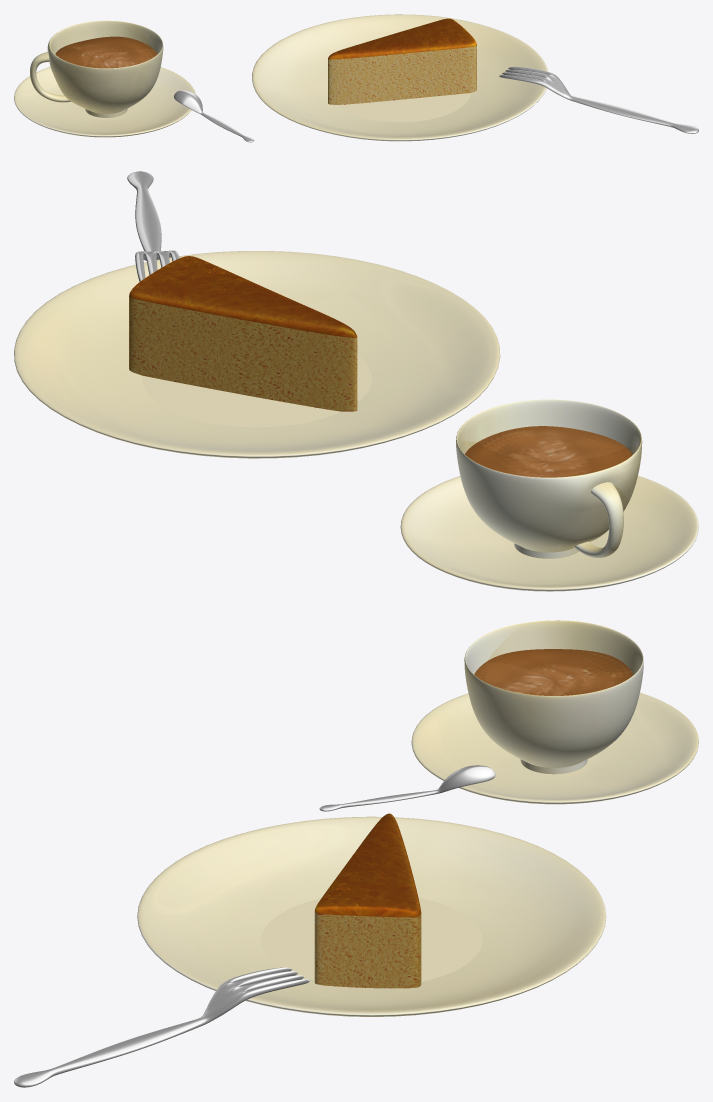
File: cake__coffee.glb
The picture shows the model from 3 angles, top to bottom: view 1: azimuth 30°, elevation 25°; view 2: azimuth 150°, elevation 25°; view 3: azimuth 270°, elevation 25°; orthographic projection. The views are drawn at different scales.
Visible parts, largest first — view 1: Object_9, Object_7, Object_11, Object_10, Object_6, Object_4, Object_8, Object_3; view 2: Object_9, Object_7, Object_11, Object_10, Object_6, Object_4, Object_8; view 3: Object_9, Object_11, Object_10, Object_7, Object_6, Object_4, Object_3.
Boxes of the visible parts, bbox=[...] form: Object_9: bbox=[252, 14, 548, 141]; Object_7: bbox=[328, 18, 476, 104]; Object_11: bbox=[47, 20, 163, 113]; Object_10: bbox=[14, 67, 195, 137]; Object_6: bbox=[337, 93, 470, 122]; Object_4: bbox=[499, 66, 698, 133]; Object_8: bbox=[30, 51, 127, 117]; Object_3: bbox=[174, 90, 254, 142]; Object_9: bbox=[14, 251, 500, 458]; Object_7: bbox=[129, 256, 357, 411]; Object_11: bbox=[456, 399, 642, 552]; Object_10: bbox=[400, 475, 698, 591]; Object_6: bbox=[142, 355, 371, 427]; Object_4: bbox=[127, 171, 179, 281]; Object_8: bbox=[514, 482, 623, 558]; Object_9: bbox=[137, 816, 606, 1016]; Object_11: bbox=[464, 620, 643, 767]; Object_10: bbox=[411, 692, 698, 804]; Object_7: bbox=[314, 813, 421, 988]; Object_6: bbox=[261, 897, 482, 981]; Object_4: bbox=[14, 967, 309, 1087]; Object_3: bbox=[319, 765, 495, 811].
Size of the model in its own units: 183 by 23.61 by 137.
Materials: 2 (2 with a texture image).
